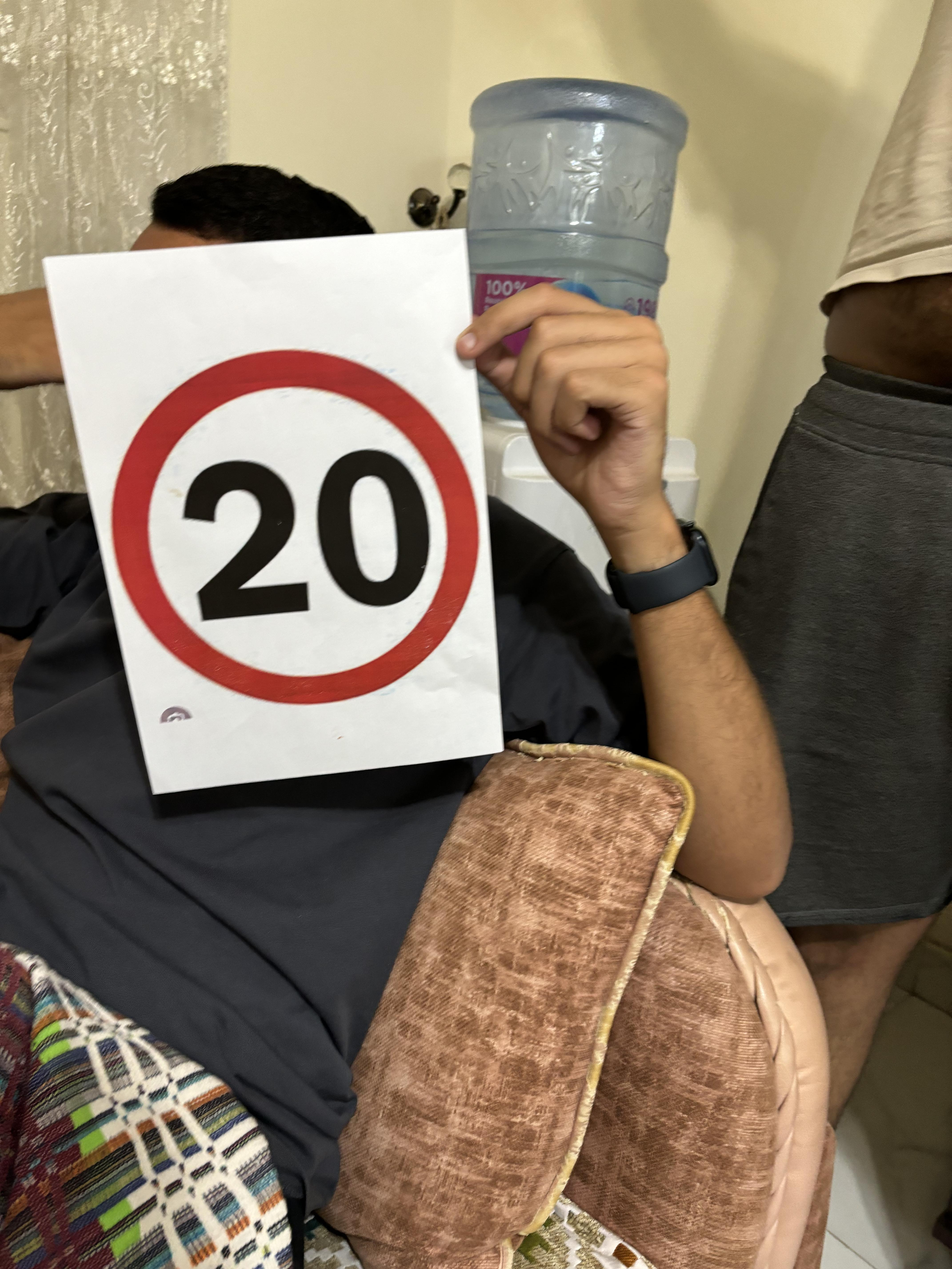20-Speed: (92, 343, 488, 696)
